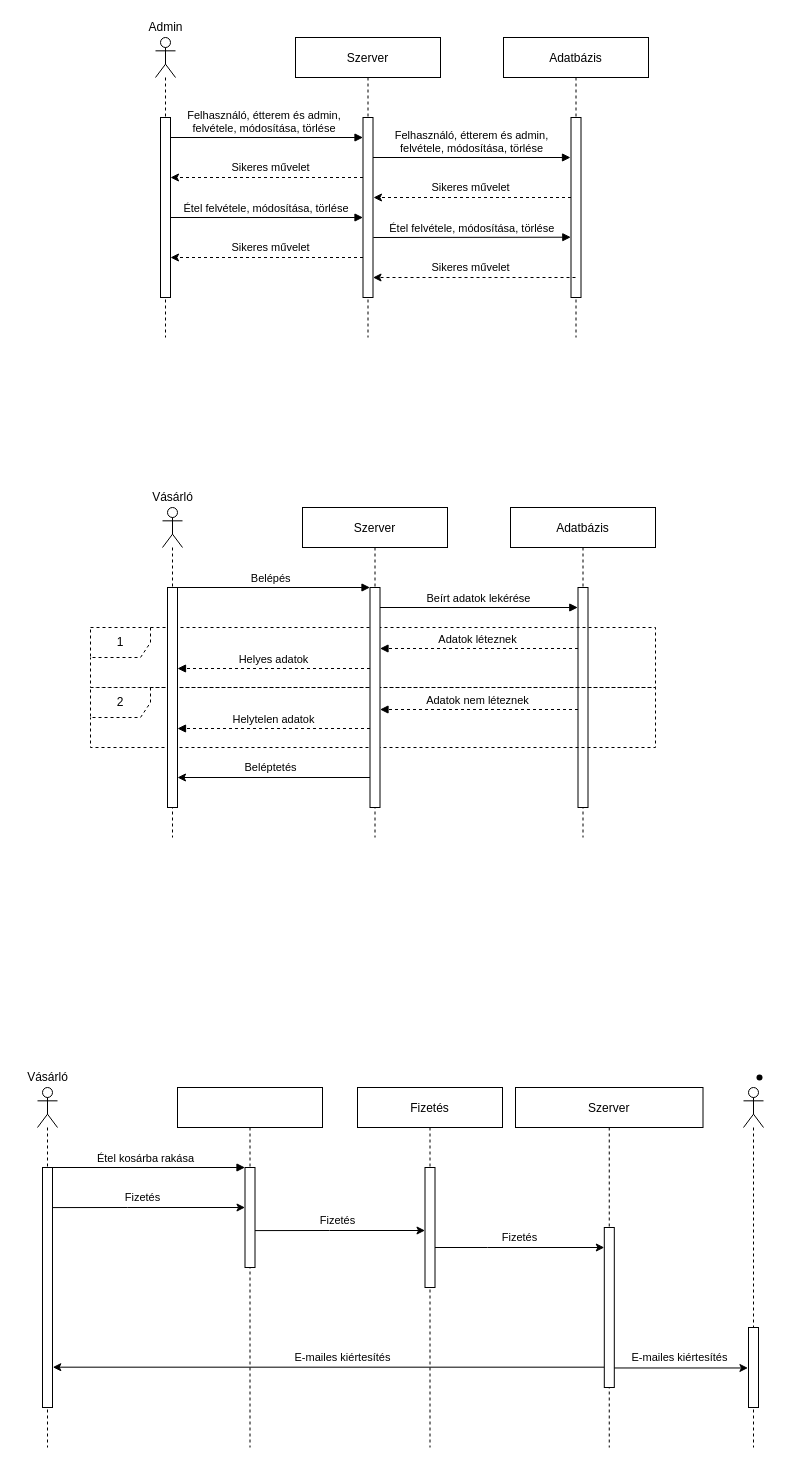
Some shapes in this 800 by 1465 pixel diagram are drawn without their labels. Here are the shapes that lost their labels. From the top down, the centre of each, then its label:
the point at 759,1077: Étterem
the point at 249,1267: Kosár
